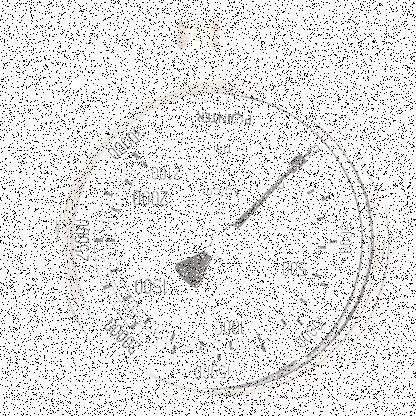needle: (231, 147, 313, 231)
